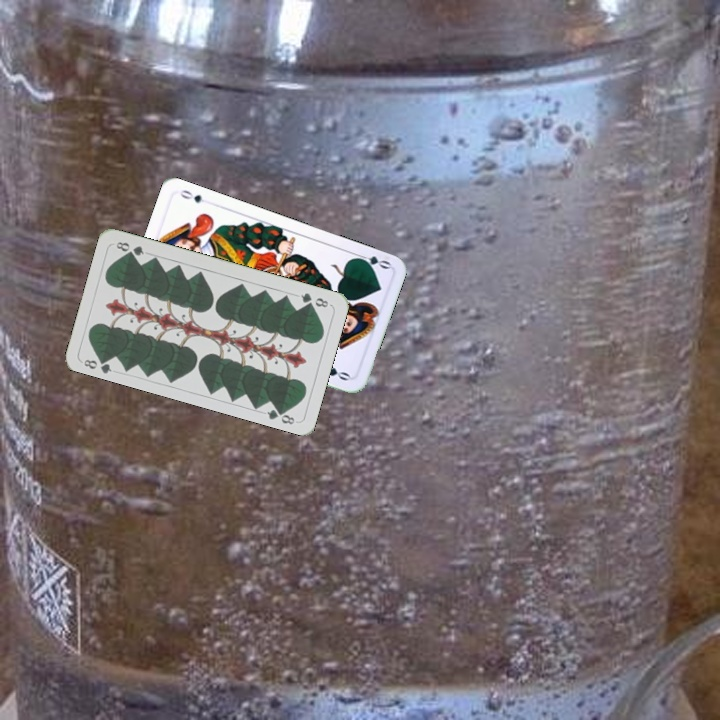G8: (80, 352, 114, 376), (296, 289, 331, 310)
GO: (352, 250, 393, 272)
